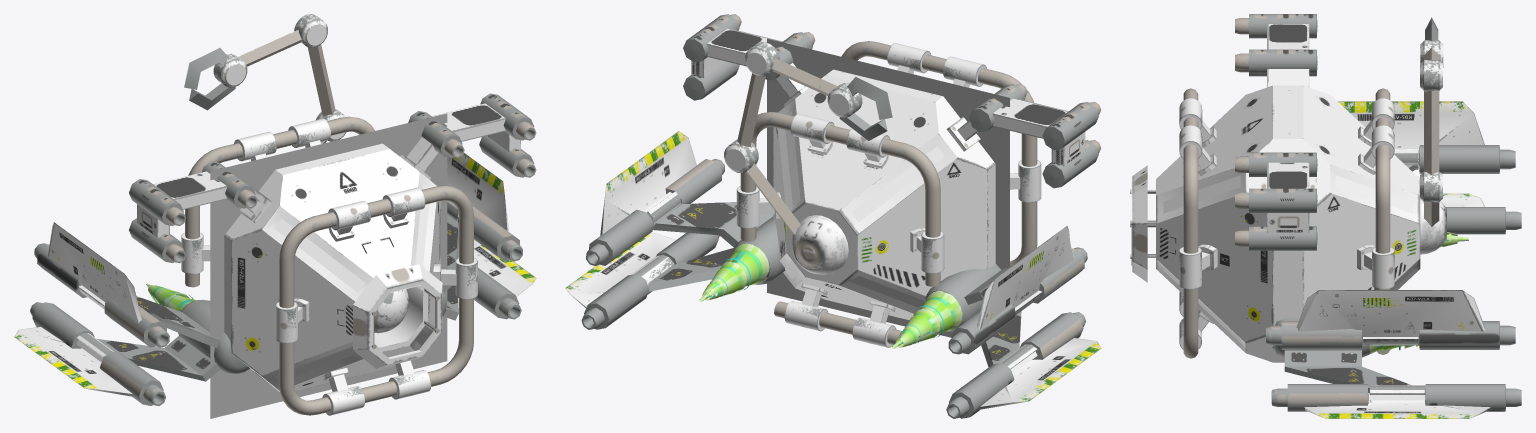
Rendered from Drone.gltf.
The picture shows the model from 3 angles, left to right: view 1: azimuth 30°, elevation 25°; view 2: azimuth 150°, elevation 25°; view 3: azimuth 270°, elevation 25°; orthographic projection. The views are drawn at different scales.
Visible parts, largest first — view 1: K07_Drone, pPlane1; view 2: K07_Drone, pPlane1, Fire_006; view 3: K07_Drone.
Boxes of the visible parts, <box> form: K07_Drone: <box>14,14,536,415</box>; pPlane1: <box>210,113,447,418</box>; K07_Drone: <box>565,14,1101,418</box>; pPlane1: <box>767,38,1009,337</box>; Fire_006: <box>920,299,952,333</box>; K07_Drone: <box>1130,14,1521,418</box>.
Bounding box in the file's own units: 1.91 × 1.25 × 1.4.
5 materials, 4 textured.
